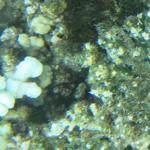dead: (2, 6, 145, 148)
